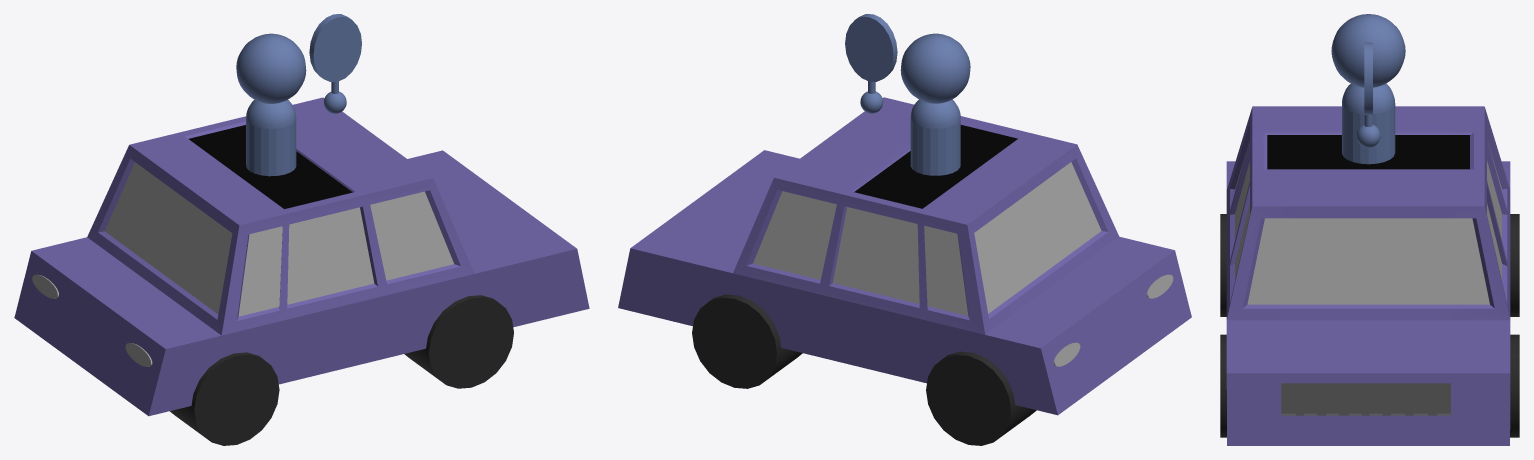
File: GJCarP1Coloured.fbx
The picture shows the model from 3 angles, left to right: view 1: azimuth 30°, elevation 25°; view 2: azimuth 150°, elevation 25°; view 3: azimuth 270°, elevation 25°; orthographic projection. The views are drawn at different scales.
Parts seen in each view (by area): view 1: pCube1, pCylinder2, pCylinder3, pSphere2, pSphere1, pCylinder8; view 2: pCube1, pCylinder1, pCylinder4, pSphere2, pSphere1, pCylinder8; view 3: pCube1, pSphere2, pSphere1, pCylinder1, pCylinder4, pCylinder2, pCylinder3, pCylinder8, pSphere3.
Boxes of the visible parts, x1,y1,x2,y2 form: pCube1: (14, 97, 589, 416); pCylinder2: (404, 295, 513, 388); pCylinder3: (170, 352, 279, 445); pSphere2: (236, 33, 306, 103); pSphere1: (246, 99, 296, 176); pCylinder8: (309, 14, 361, 81); pCube1: (618, 97, 1191, 415); pCylinder1: (692, 294, 802, 388); pCylinder4: (926, 351, 1036, 445); pSphere2: (900, 33, 970, 103); pSphere1: (910, 99, 960, 175); pCylinder8: (845, 14, 897, 81); pCube1: (1226, 106, 1510, 445); pSphere2: (1331, 14, 1405, 87); pSphere1: (1342, 83, 1395, 164); pCylinder1: (1510, 334, 1519, 437); pCylinder4: (1510, 214, 1519, 316); pCylinder2: (1220, 334, 1226, 437); pCylinder3: (1220, 214, 1226, 316); pCylinder8: (1364, 42, 1372, 114); pSphere3: (1356, 124, 1380, 147).
Size of the model in its own units: 3.73 by 2.72 by 2.08.
